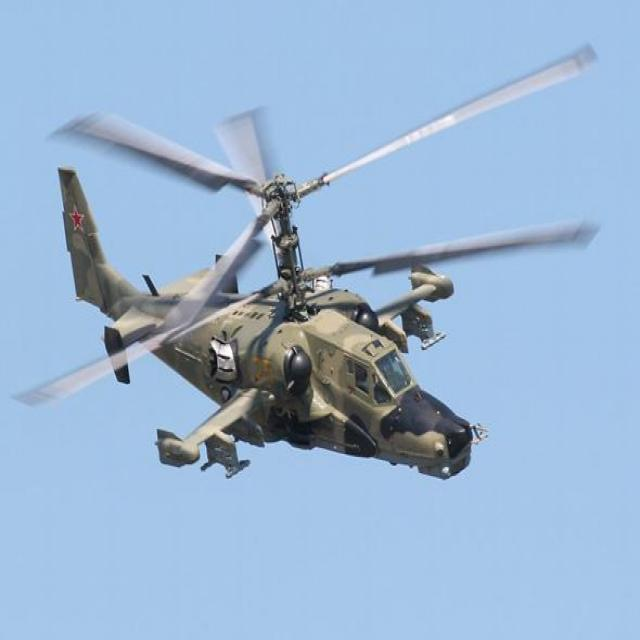MIL_HELO: (24, 47, 630, 495)
